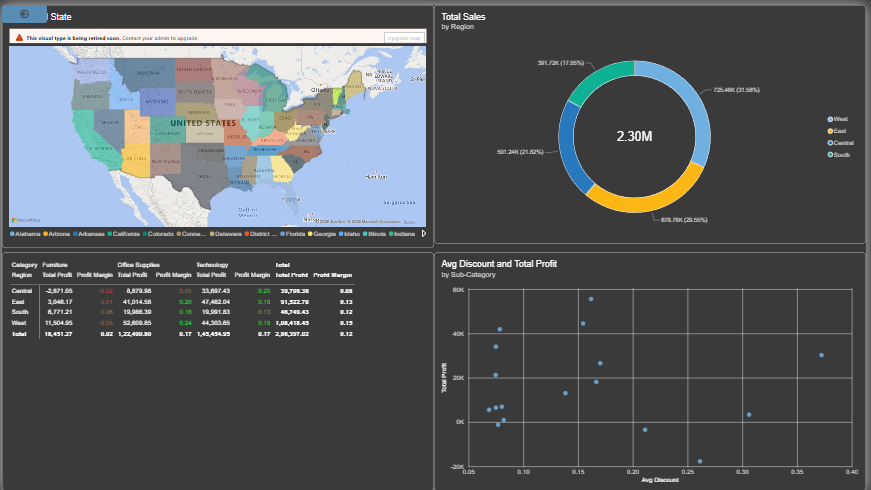

What the dashboard file says about the page in this screenshot:
{"tool":"powerbi","page":{"name":"Page 2","canvas":[1920,1080],"ordinal":1},"visuals":[{"type":"filledMap","fields":{"Category":["Orders.State"],"Series":["Orders.State"]},"box":[0,0,960,540],"z":0},{"type":"actionButton","box":[0,0,100,40],"z":1000},{"type":"donutChart","fields":{"Category":["Orders.Region"],"Y":["Orders.Total Sales"]},"box":[960,0,960,530],"z":2000},{"type":"pivotTable","fields":{"Columns":["Orders.Category"],"Rows":["Orders.Region"],"Values":["Orders.Total Profit","Orders.Profit Margin"]},"box":[0,550,960,530],"z":3000},{"type":"scatterChart","fields":{"Category":["Orders.Sub-Category"],"X":["Orders.Avg Discount"],"Y":["Orders.Total Profit"]},"box":[960,550,960,530],"z":4000}]}

Visuals, with their boxes in screenshot pixels (x1, y1, x2, y2), scaled from the page's 1920x1080 canvas onto the 871x490 screenshot:
filledMap - Orders.State x Orders.State: bbox(0, 0, 436, 245)
actionButton: bbox(0, 0, 45, 18)
donutChart - Orders.Region x Orders.Total Sales: bbox(436, 0, 870, 240)
pivotTable - Orders.Category x Orders.Region: bbox(0, 250, 436, 489)
scatterChart - Orders.Sub-Category x Orders.Avg Discount: bbox(436, 250, 870, 489)
